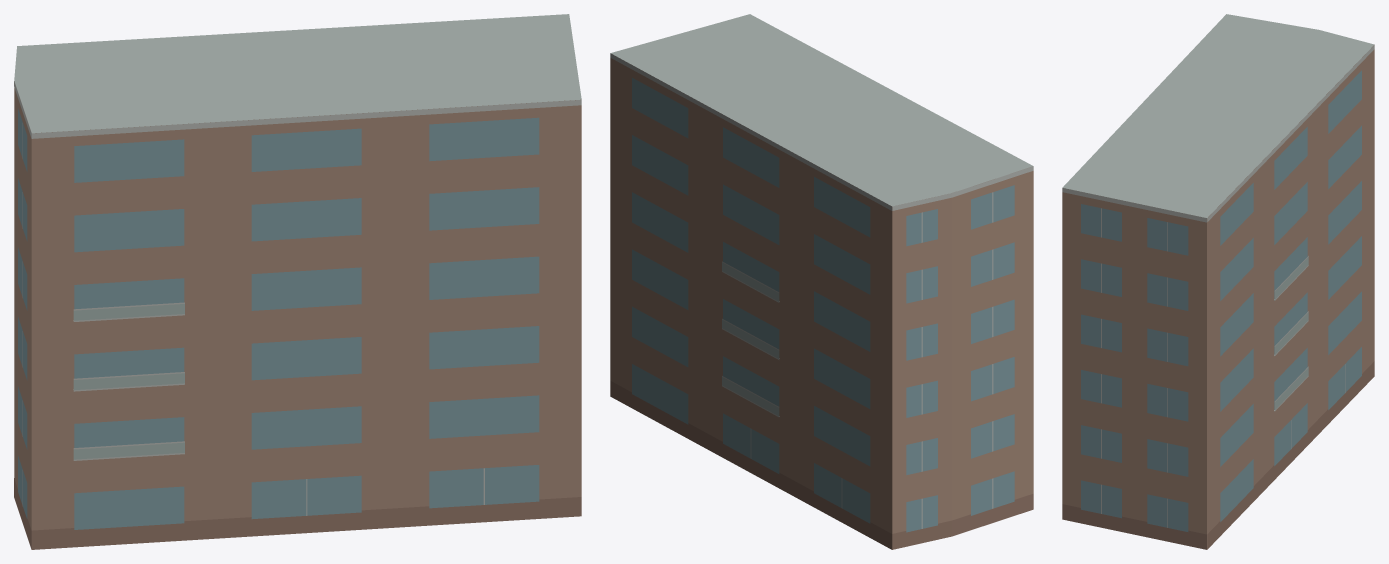
Rendered from survey-upis-32758656.glb.
3 renders of one model, left to right at view 1: azimuth 30°, elevation 25°; view 2: azimuth 150°, elevation 25°; view 3: azimuth 270°, elevation 25°, orthographic. The views are drawn at different scales.
Parts seen in each view (by area): view 1: survey-upis-32758656.tmp; view 2: survey-upis-32758656.tmp; view 3: survey-upis-32758656.tmp.
Part boxes in pixels (x1,y1,x2,y2): survey-upis-32758656.tmp: (14,14,581,549); survey-upis-32758656.tmp: (610,14,1033,549); survey-upis-32758656.tmp: (1062,14,1374,549).
Bounding box in the file's own units: 24.17 × 18.3 × 15.63.
